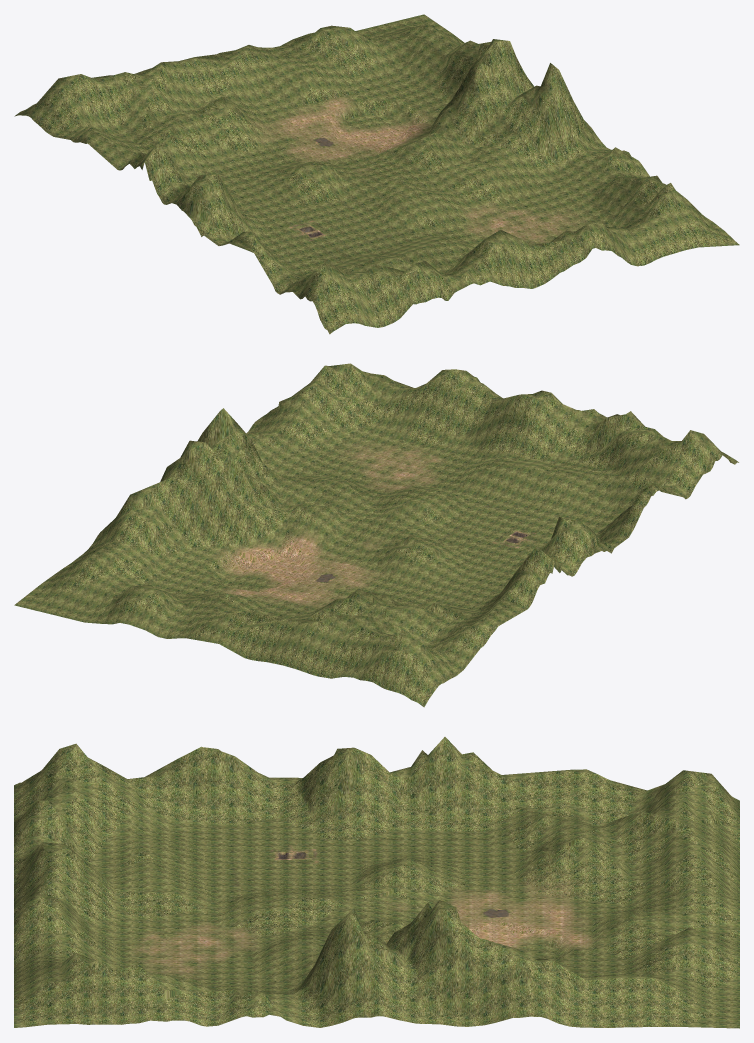
The model's file is mesh wind gam.fbx.
The picture shows the model from 3 angles, top to bottom: view 1: azimuth 30°, elevation 25°; view 2: azimuth 150°, elevation 25°; view 3: azimuth 270°, elevation 25°; orthographic projection. The views are drawn at different scales.
Visible parts, largest first — view 1: Mesh; view 2: Mesh; view 3: Mesh.
Part boxes in pixels (x1=…): Mesh: x1=14, y1=14, x2=739, y2=334; Mesh: x1=14, y1=363, x2=738, y2=707; Mesh: x1=14, y1=737, x2=739, y2=1028.
Bounding box in the file's own units: 150 × 33.13 × 200.
1 material, 1 textured.
